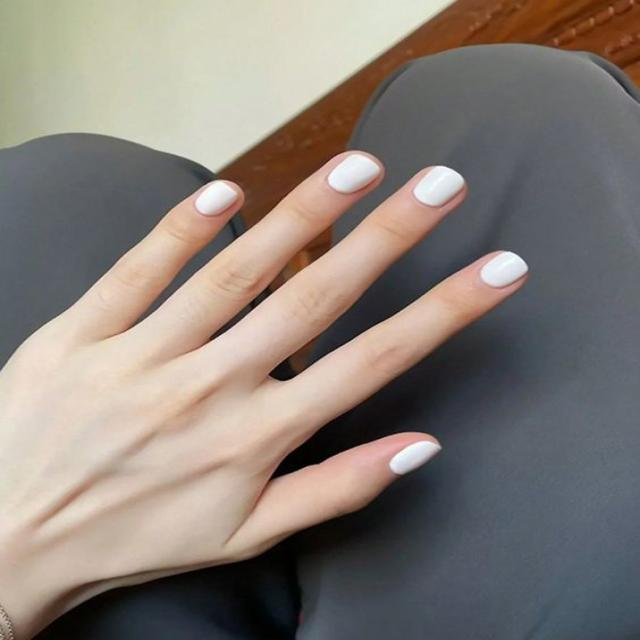Fingernail: (415, 166, 465, 206), (332, 155, 380, 193), (482, 252, 529, 290), (389, 442, 440, 475), (195, 181, 238, 217)
